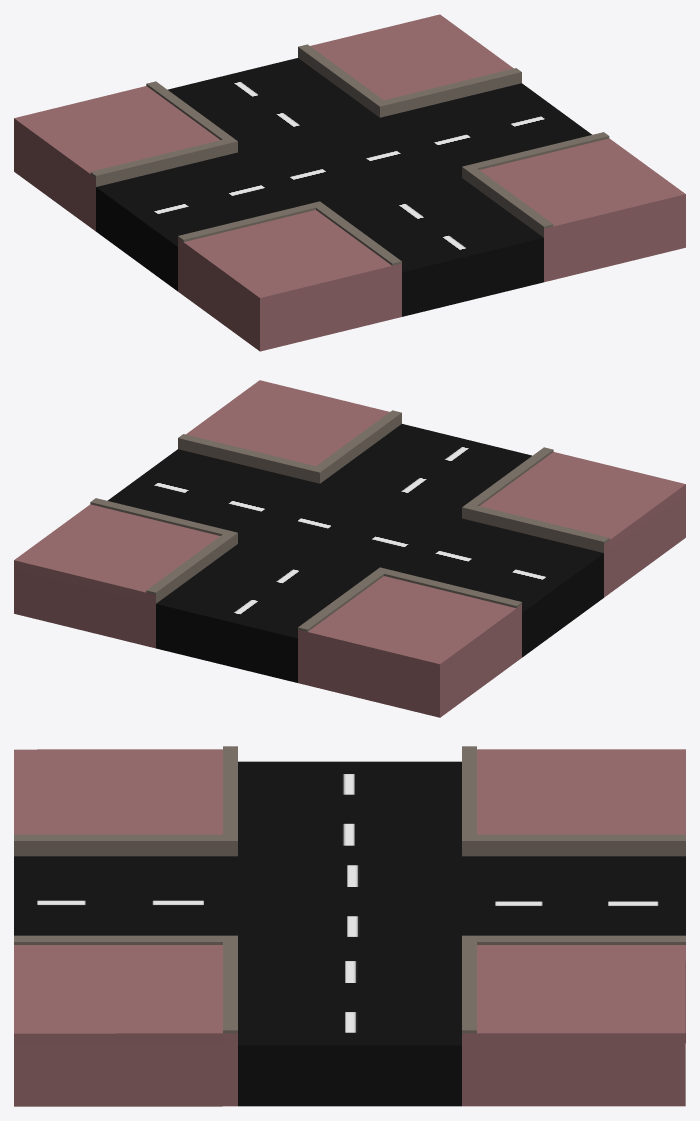
Rendered from M_Road_Cross.FBX.
3 views of the same model, one above another, from view 1: azimuth 30°, elevation 25°; view 2: azimuth 150°, elevation 25°; view 3: azimuth 270°, elevation 25° (orthographic). The views are drawn at different scales.
Parts seen in each view (by area): view 1: Road_Cross; view 2: Road_Cross; view 3: Road_Cross.
Boxes of the visible parts, <box> form: Road_Cross: <box>14,14,685,351</box>; Road_Cross: <box>14,380,685,717</box>; Road_Cross: <box>14,746,685,1106</box>.
Size of the model in its own units: 10.01 by 10 by 1.25.
